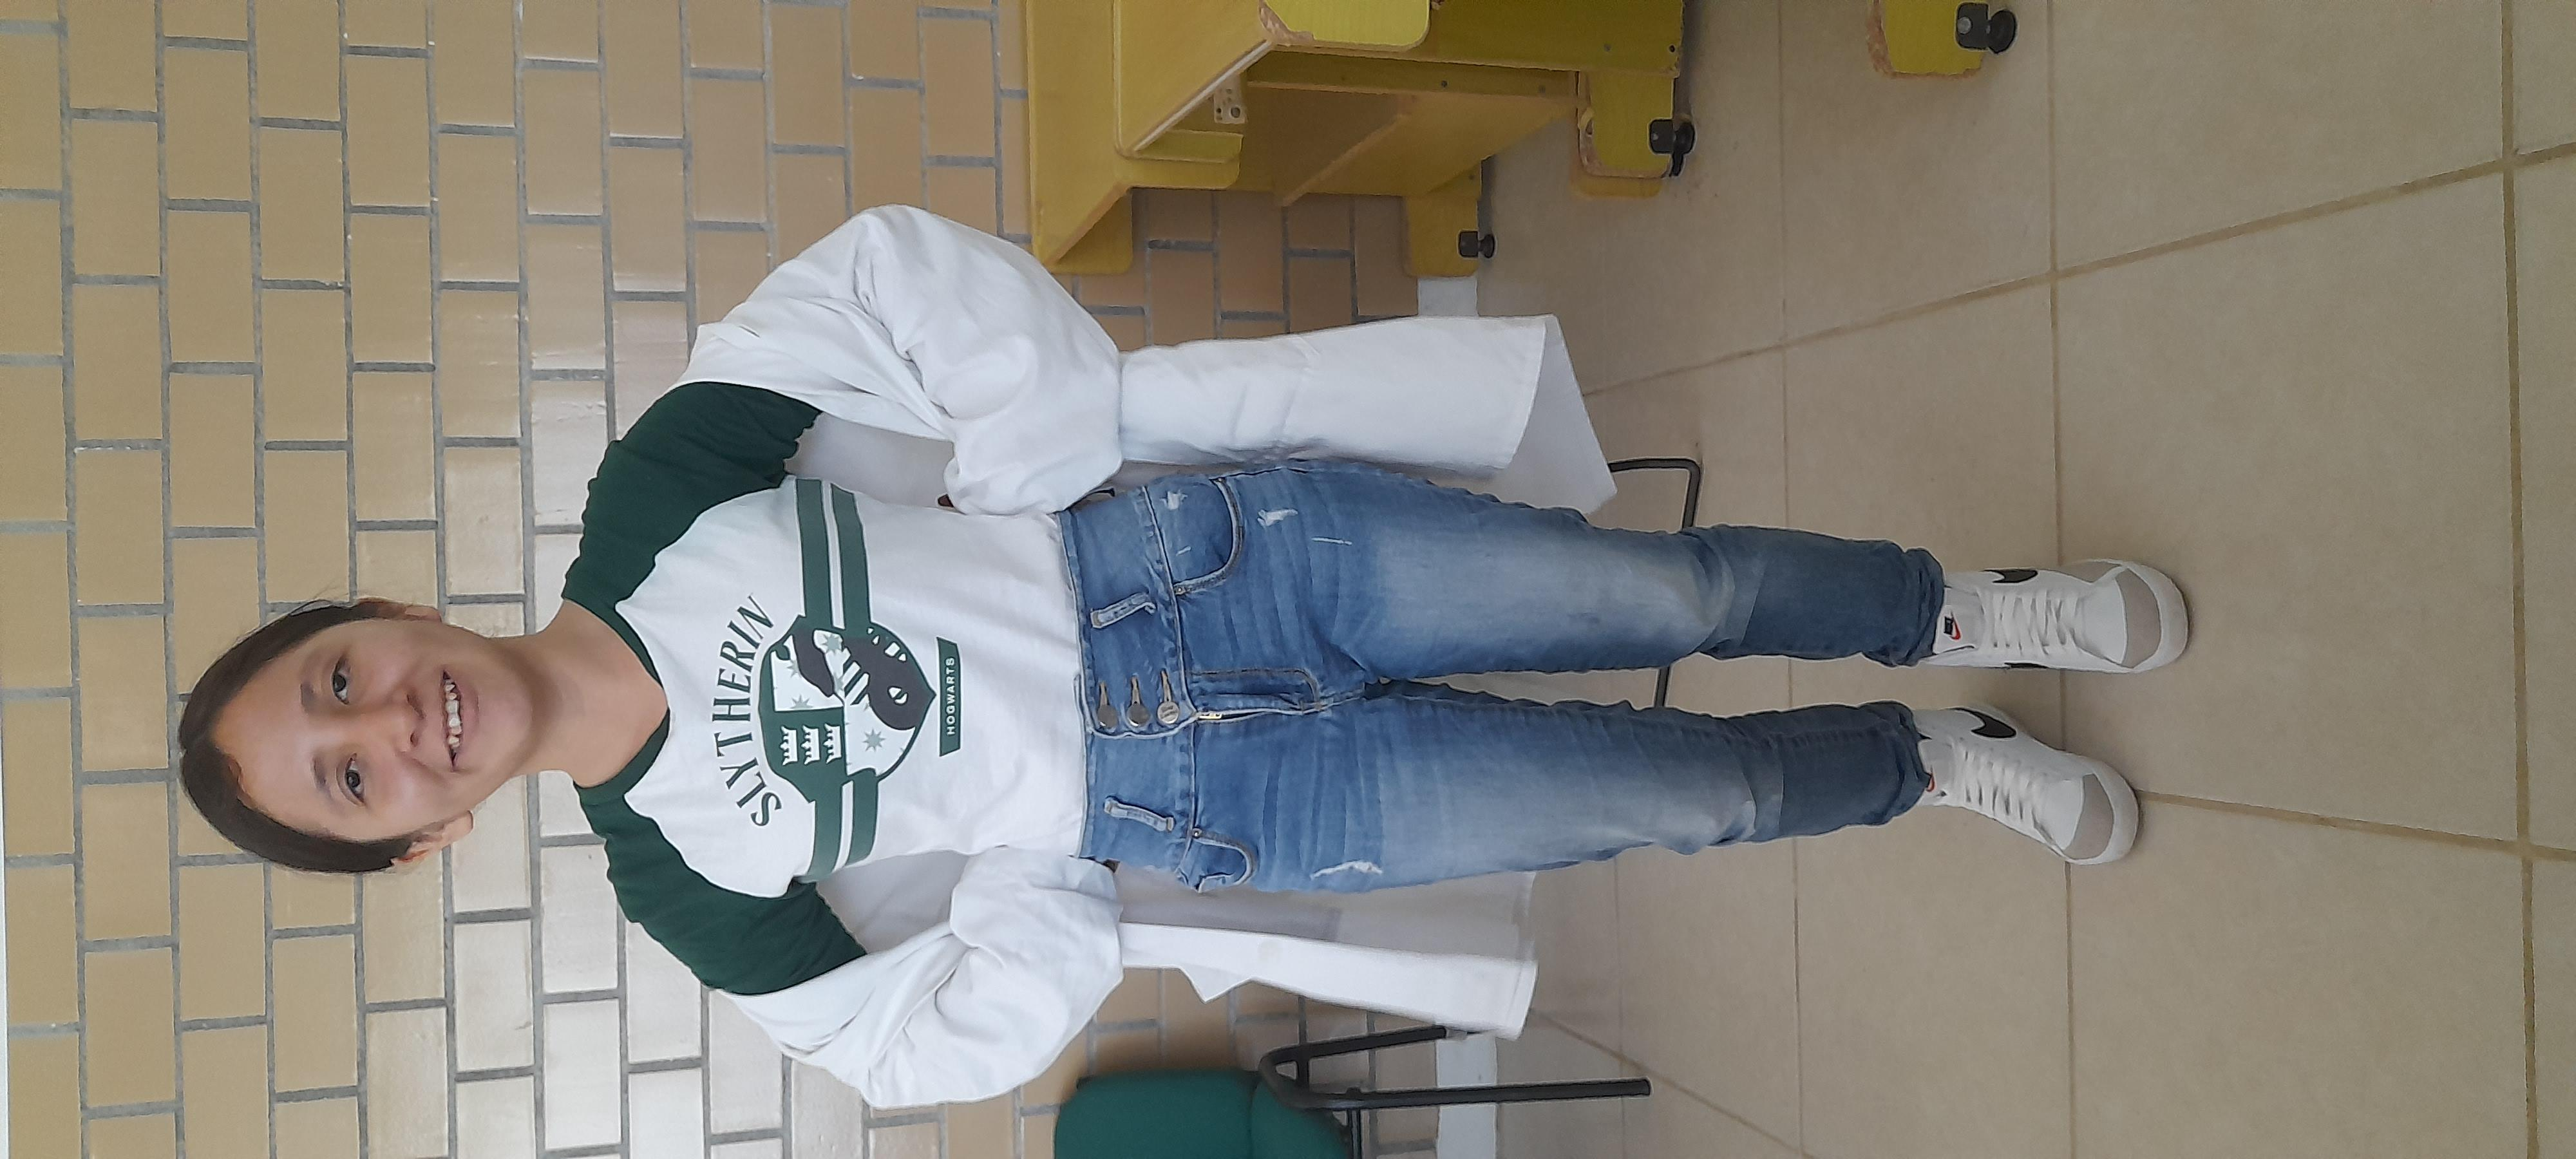Bata-Incorrecta: (0, 64, 2247, 1005)
